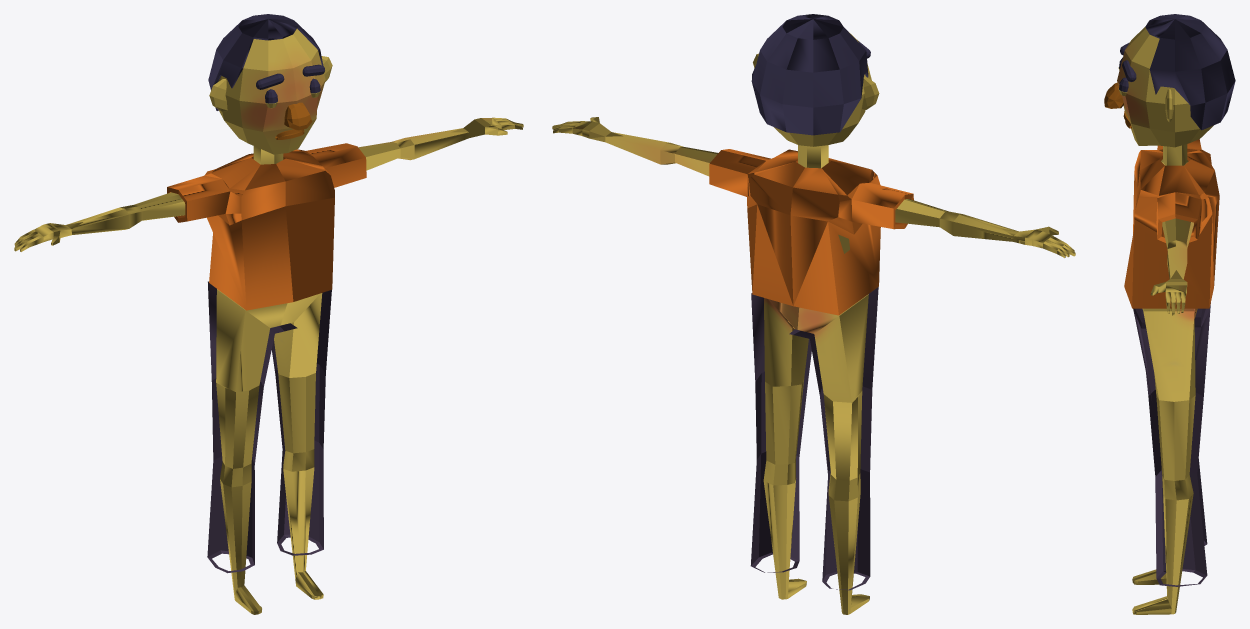
The model's file is hepatitispatient.fbx.
The picture shows the model from 3 angles, left to right: view 1: azimuth 30°, elevation 25°; view 2: azimuth 150°, elevation 25°; view 3: azimuth 270°, elevation 25°; orthographic projection. The views are drawn at different scales.
Visible parts, largest first — view 1: body, tshirt, hose, Kopf, haare; view 2: body, tshirt, haare, hose, Kopf; view 3: body, tshirt, haare, hose, Kopf, Nase, Ohren, braue.
Part boxes in pixels (bbox=[...]): body: bbox=[14, 117, 523, 614]; tshirt: bbox=[167, 143, 366, 310]; hose: bbox=[207, 281, 331, 573]; Kopf: bbox=[218, 28, 325, 154]; haare: bbox=[208, 14, 323, 110]; body: bbox=[552, 117, 1075, 614]; tshirt: bbox=[709, 149, 913, 315]; haare: bbox=[751, 14, 868, 135]; hose: bbox=[750, 287, 878, 590]; Kopf: bbox=[774, 32, 871, 146]; body: bbox=[1132, 144, 1197, 614]; tshirt: bbox=[1124, 139, 1219, 308]; haare: bbox=[1145, 14, 1235, 130]; hose: bbox=[1133, 302, 1210, 586]; Kopf: bbox=[1117, 27, 1213, 147]; Nase: bbox=[1104, 82, 1123, 108]; Ohren: bbox=[1165, 89, 1173, 122]; braue: bbox=[1122, 60, 1136, 81].
Size of the model in its own units: 1021 by 1099 by 226.
Materials: 5 (1 with a texture image).
